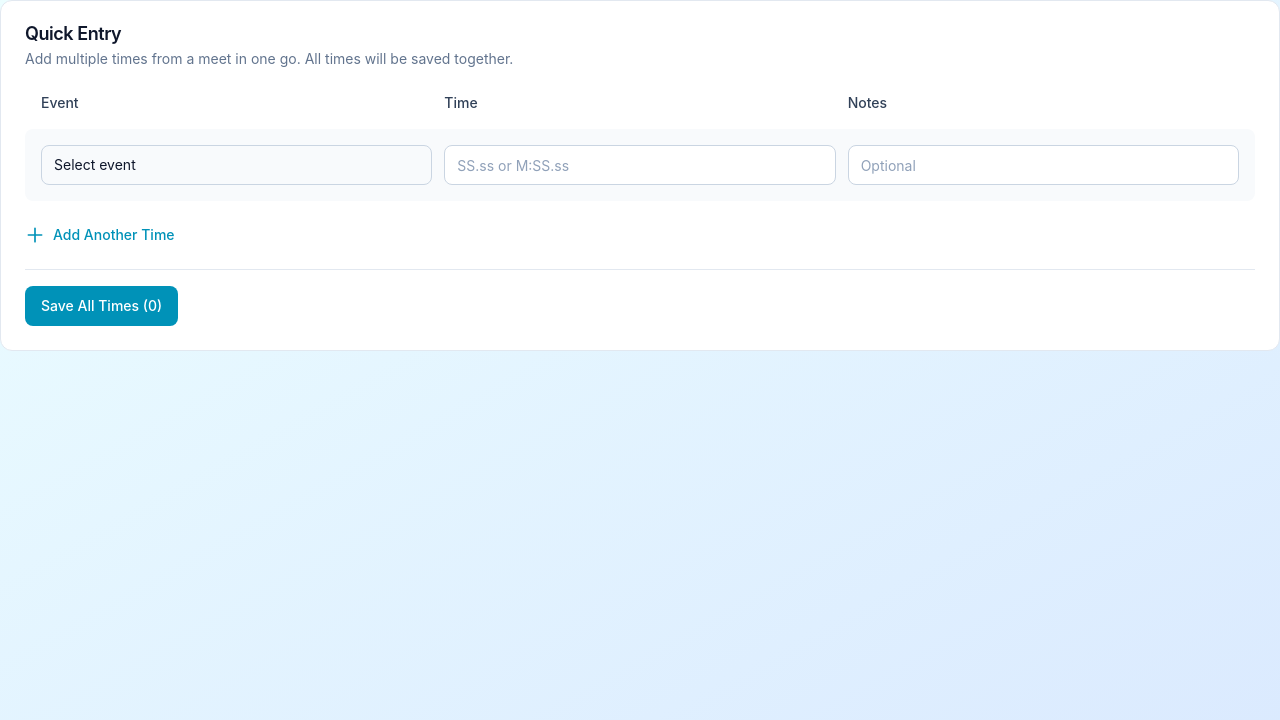
Scenario: QuickEntryForm › shows validation error when submitting empty form
Click the button "Save All Times (0)" at x=102, y=306, box [25,286,178,326]
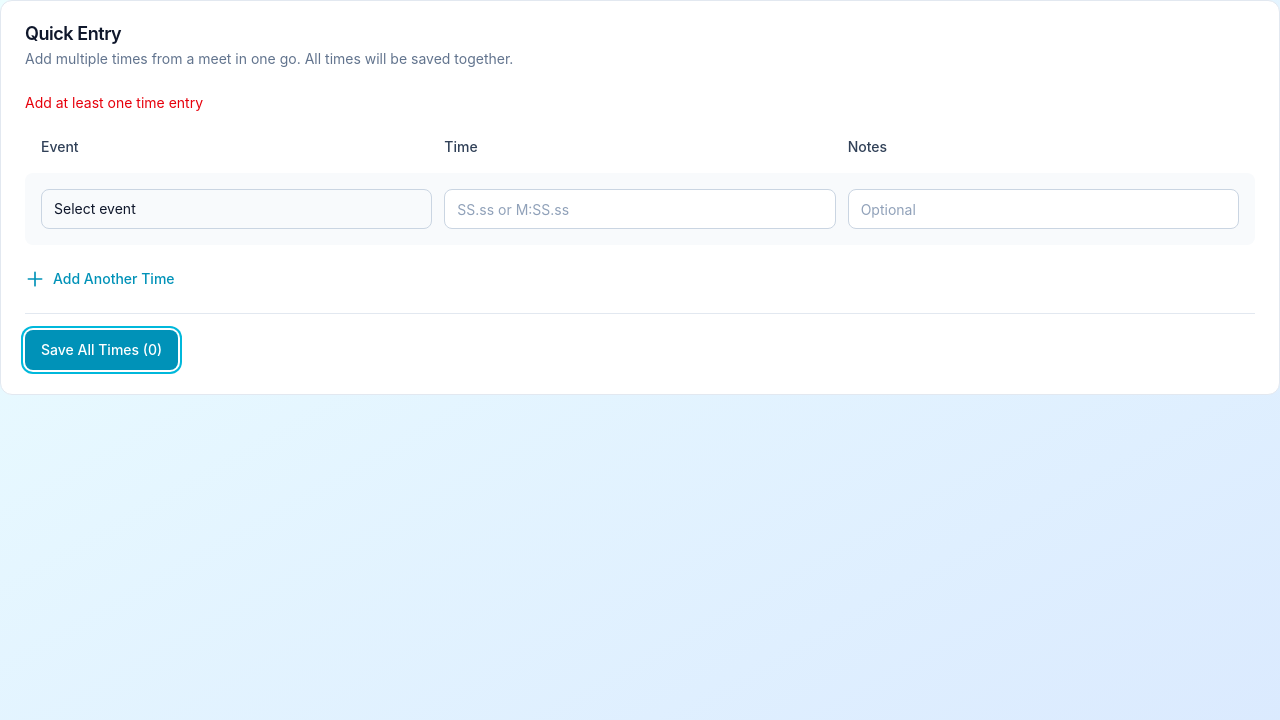
Now the text "Add at least one time entry" is shown, box [25,94,203,111]
